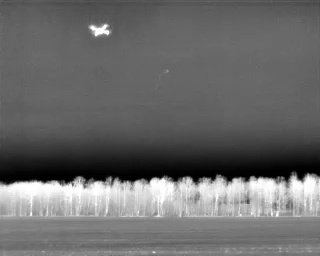DRONE: (85, 19, 116, 43)
